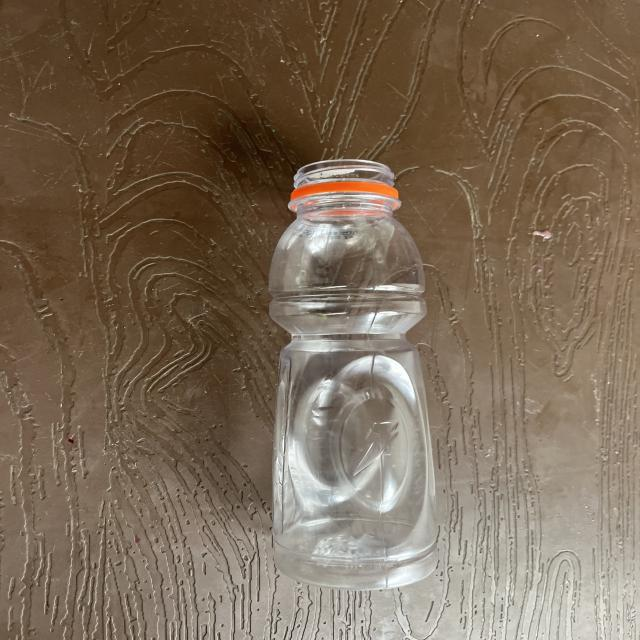PET_With_Cap: (251, 156, 459, 595)
